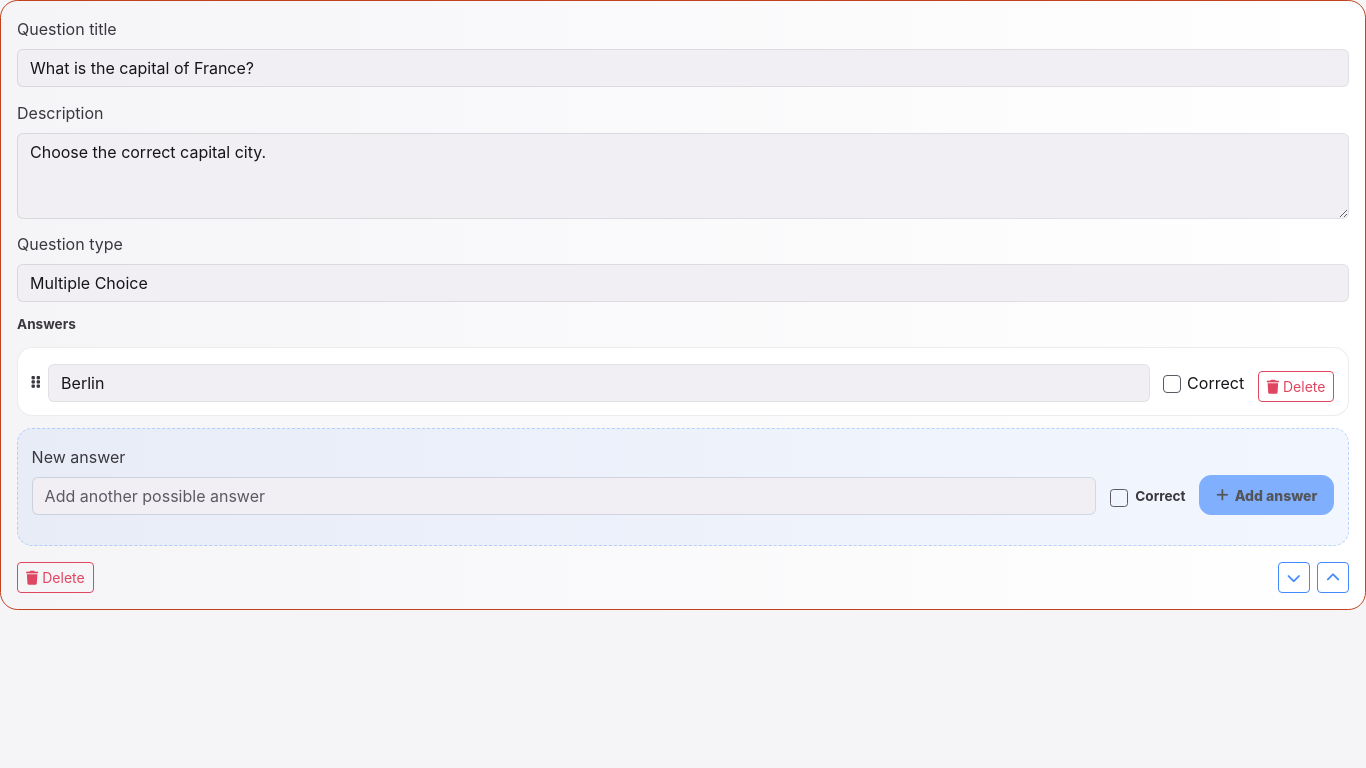
Test: QuestionCard › indicates when saveAnswer failed
Replace the text in the field showing "Berlin" with "Zurich" at (599, 383), box [48, 364, 1150, 402]
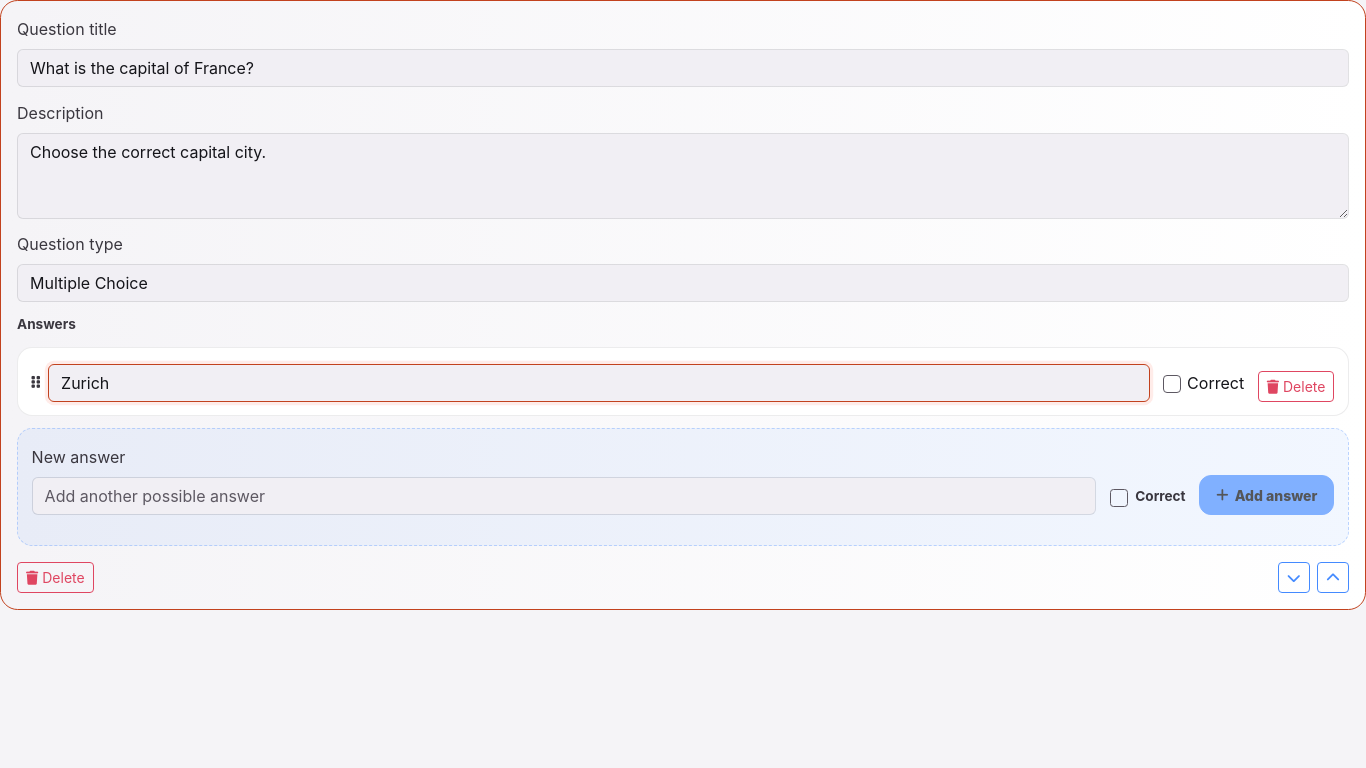
Leave the field showing "Berlin", box [48, 364, 1150, 402]
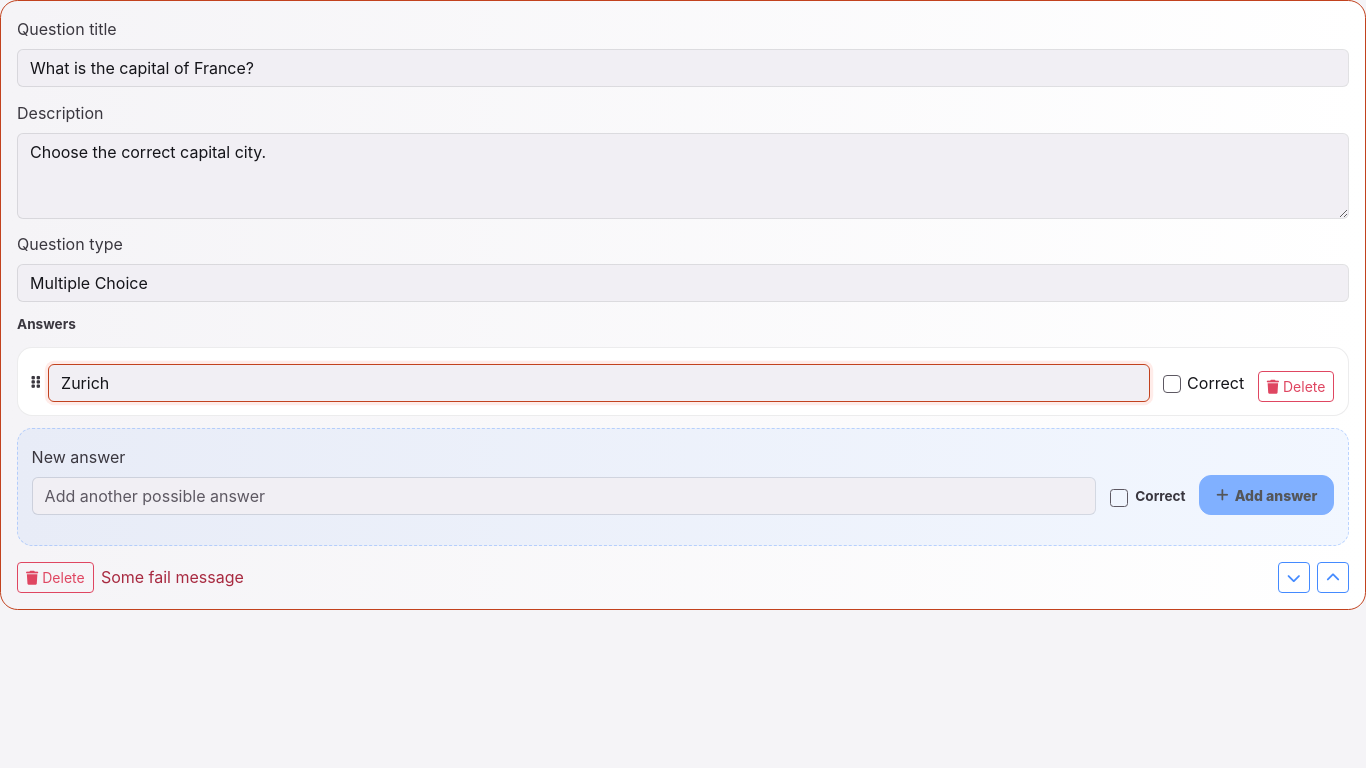
Now the text "Some fail message" is shown, box [101, 565, 244, 589]
